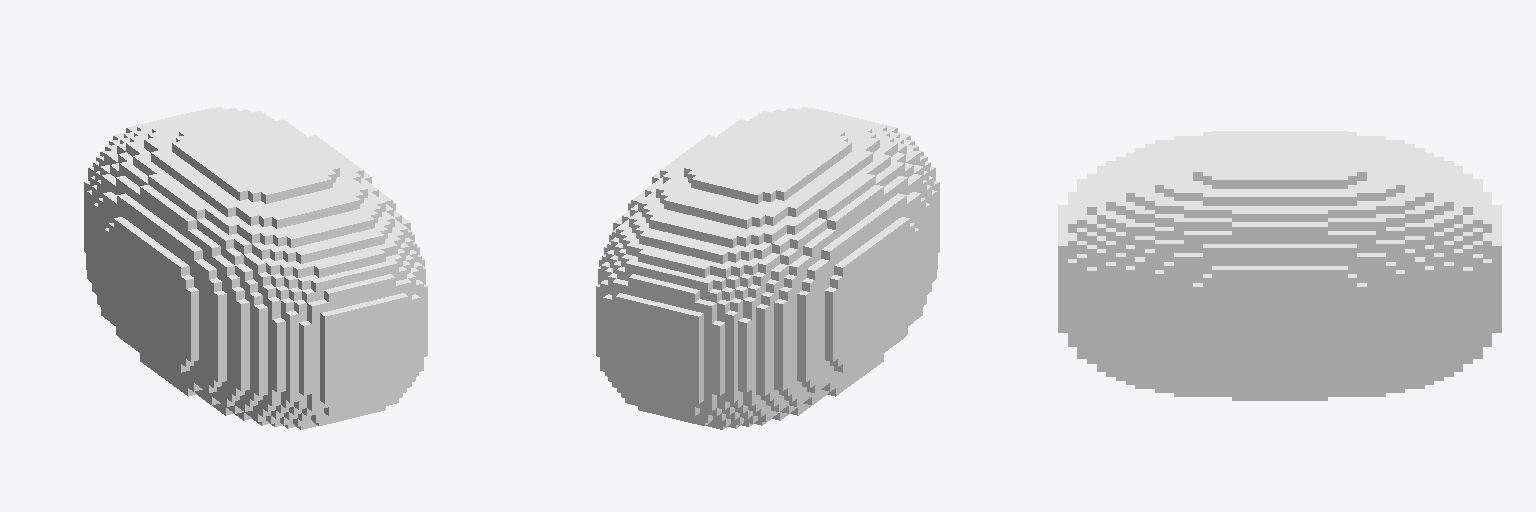
Rendered from cloud.obj.
3 renders of one model, left to right at view 1: azimuth 30°, elevation 25°; view 2: azimuth 150°, elevation 25°; view 3: azimuth 270°, elevation 25°, orthographic.
Size of the model in its own units: 26 by 23 by 46.